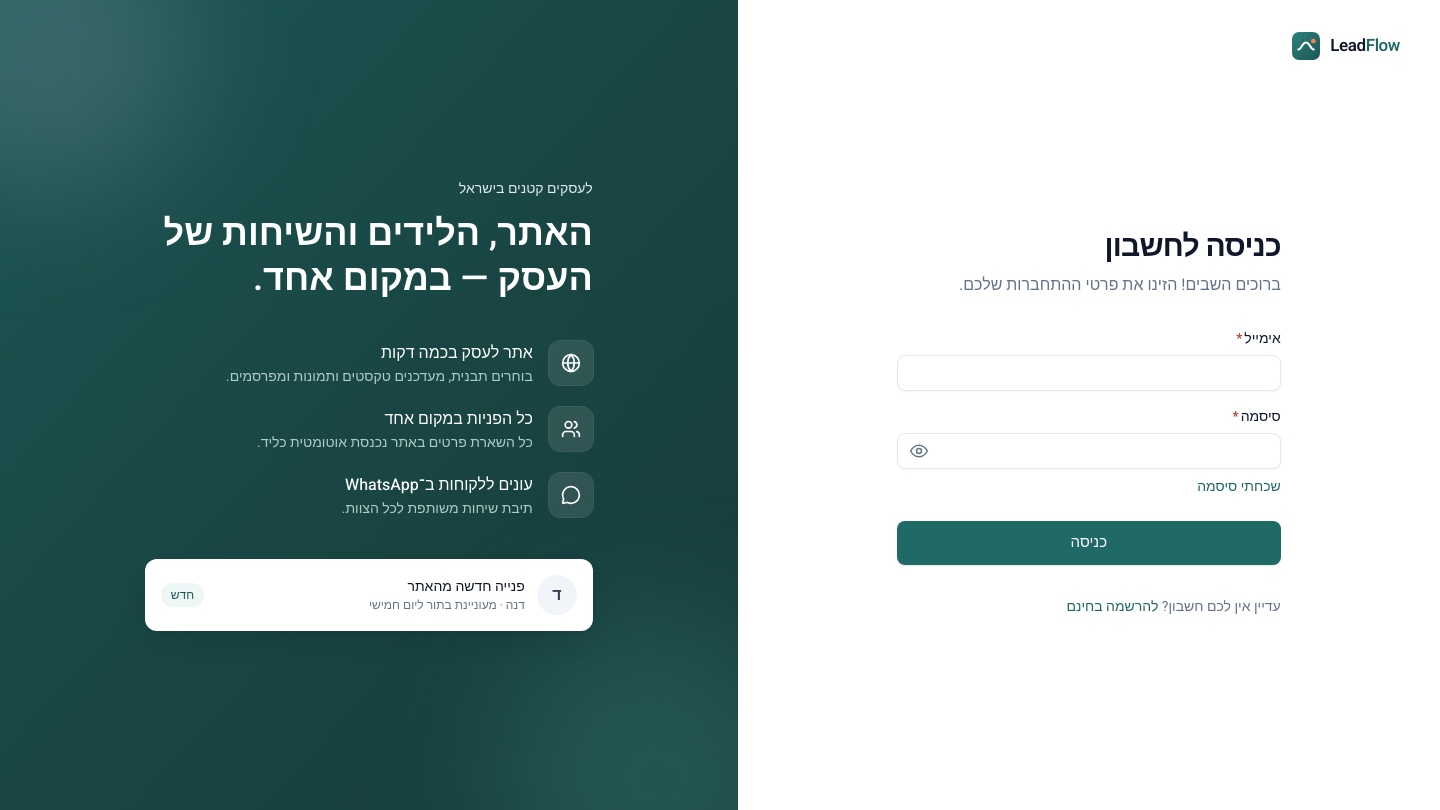
Test: LoginPage › shows the shared rate-limit message on 429
This screenshot has width=1440, height=810.
Expected: the button "כניסה" is shown, [897,520,1281,564]
Type "dana@example.com" into the field labelled "אימייל*" at (1089, 372), box [897,354,1281,390]
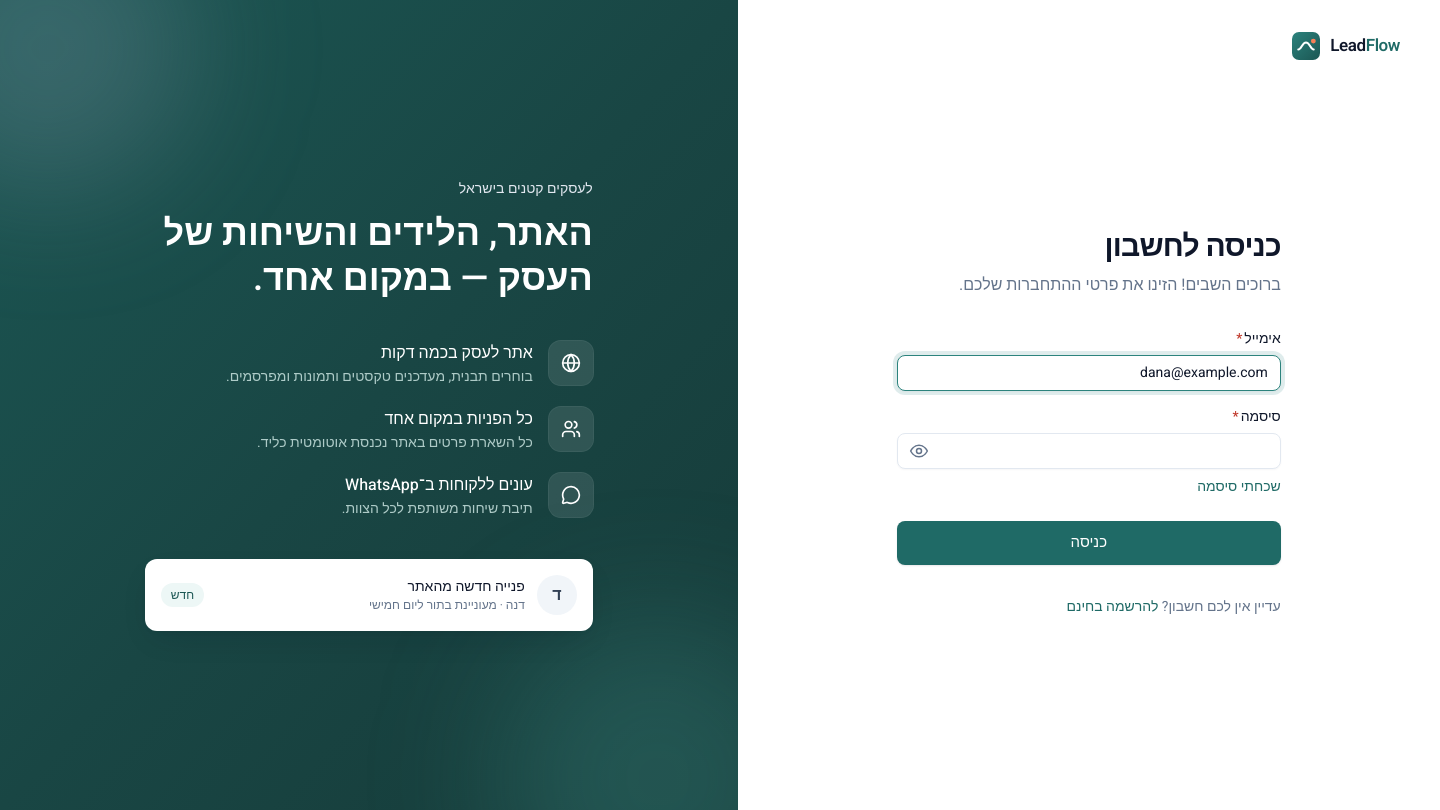
Type "whatever" into the password field labelled "סיסמה*" at (1089, 450), box [897,432,1281,468]
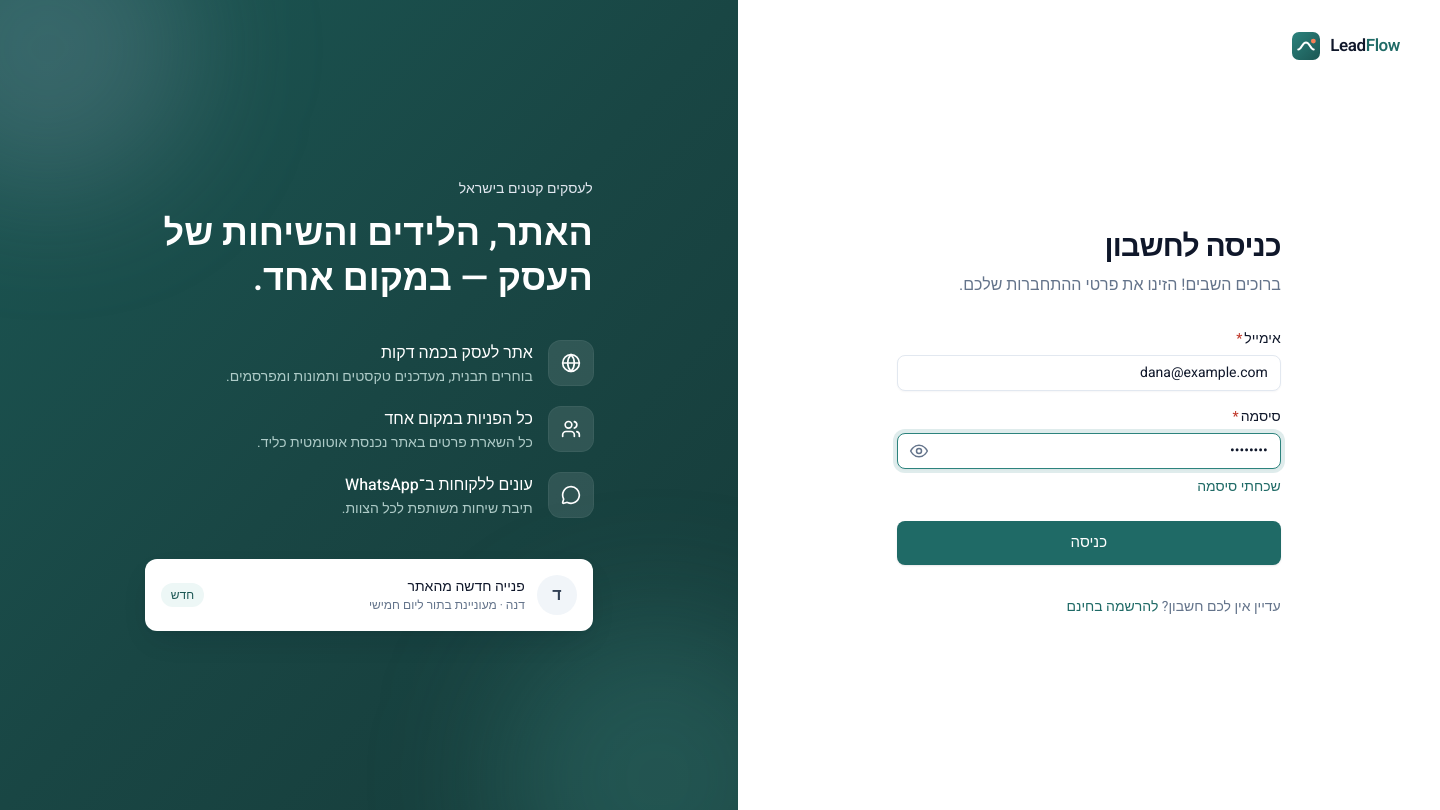
Click the button "כניסה" at (1089, 542), box [897,520,1281,564]
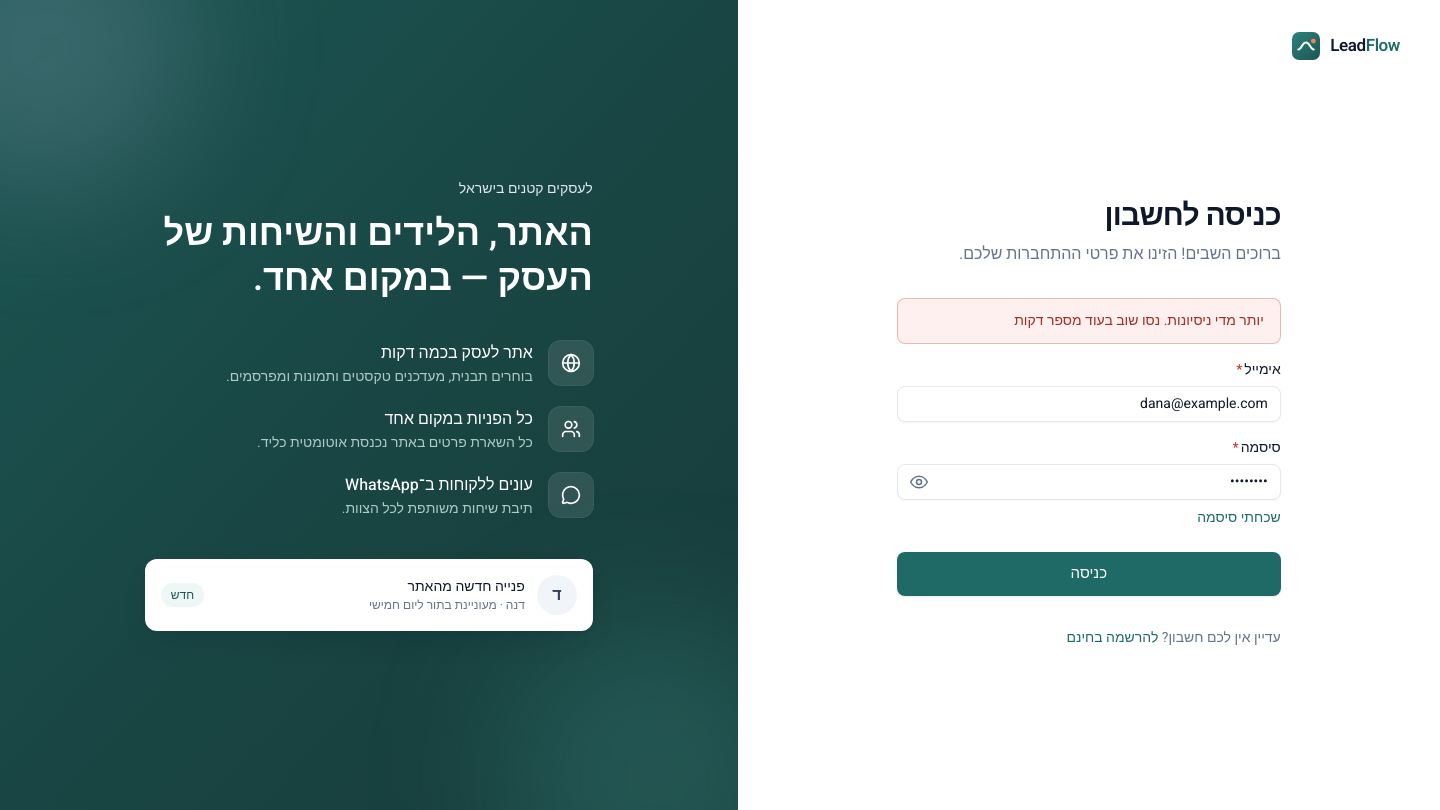
Expected: the message reads "יותר מדי ניסיונות. נסו שוב בעוד מספר דקות", [1014,310,1264,330]
